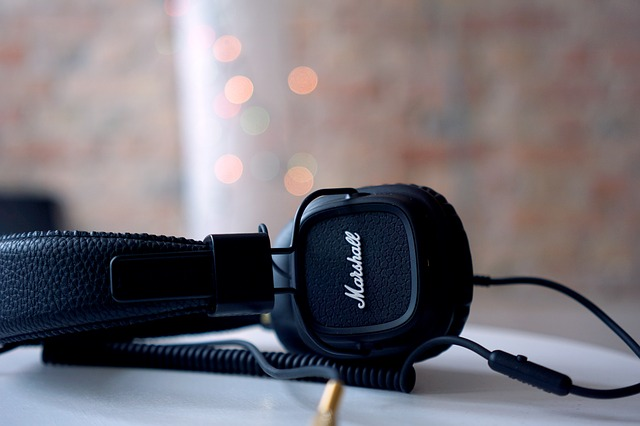headphones: (1, 184, 474, 364)
